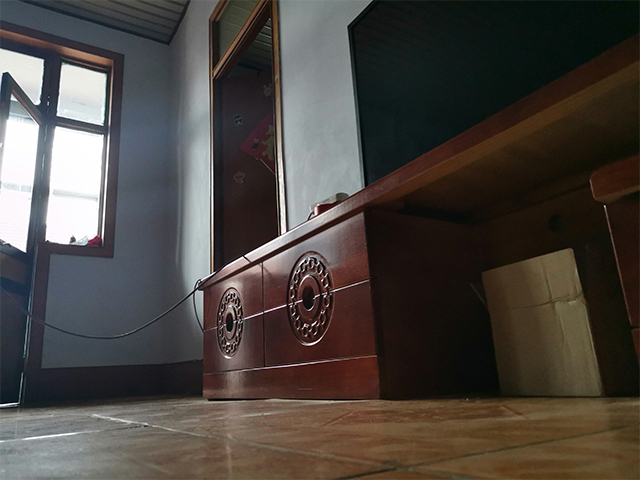cabinet: (196, 29, 640, 403)
